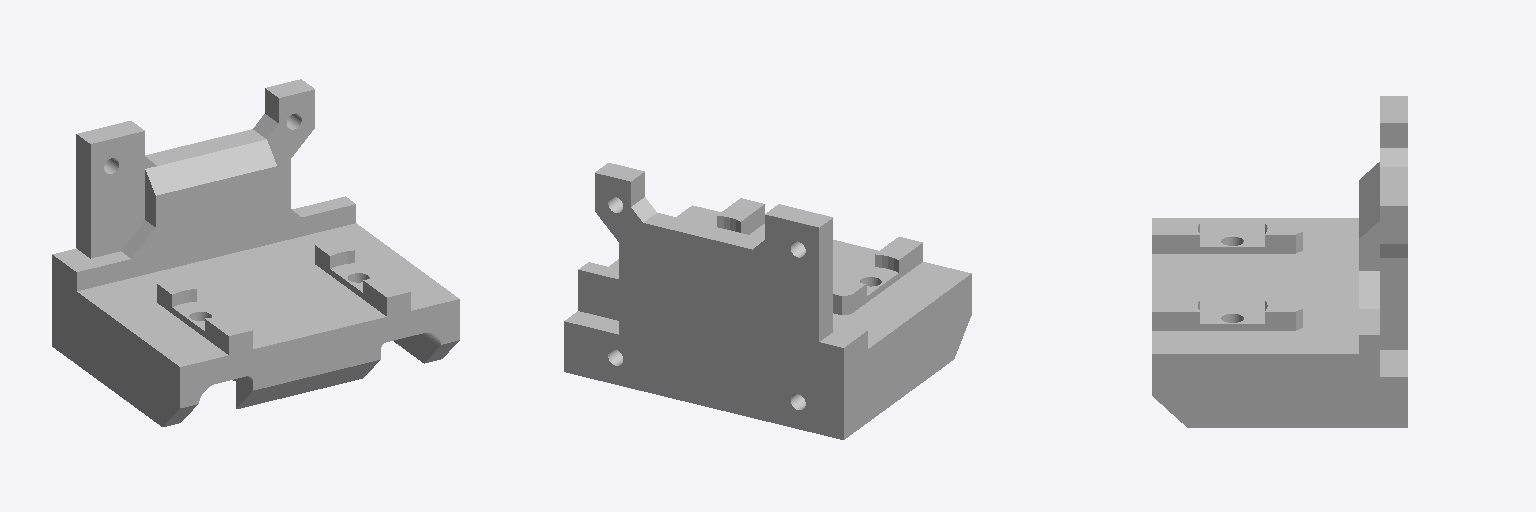
The model's file is f330_bluefox_holder.obj.
3 views of the same model, side by side, from view 1: azimuth 30°, elevation 25°; view 2: azimuth 150°, elevation 25°; view 3: azimuth 270°, elevation 25° (orthographic).
Parts seen in each view (by area): view 1: obj1; view 2: obj1; view 3: obj1.
Boxes of the visible parts, <box> form: obj1: <box>52,79,459,426</box>; obj1: <box>564,163,971,439</box>; obj1: <box>1152,96,1407,427</box>.
Size of the model in its own units: 0.046 by 0.0325 by 0.0365.